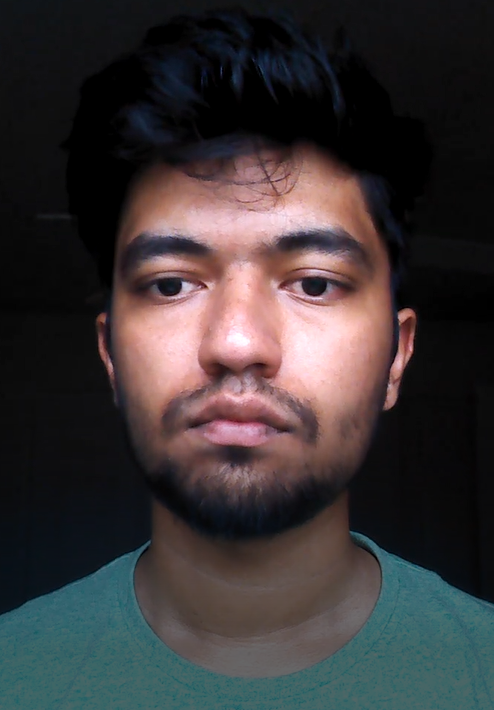Not Sleeping: (123, 232, 366, 321)
